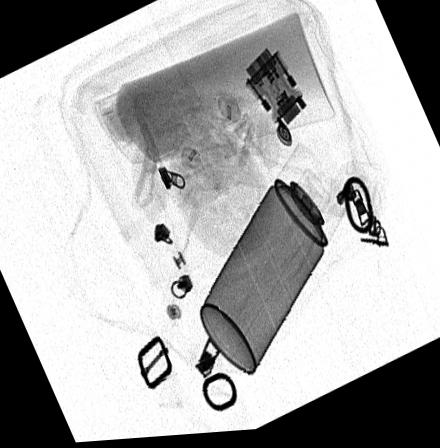Sprayer: (199, 149, 349, 380)
